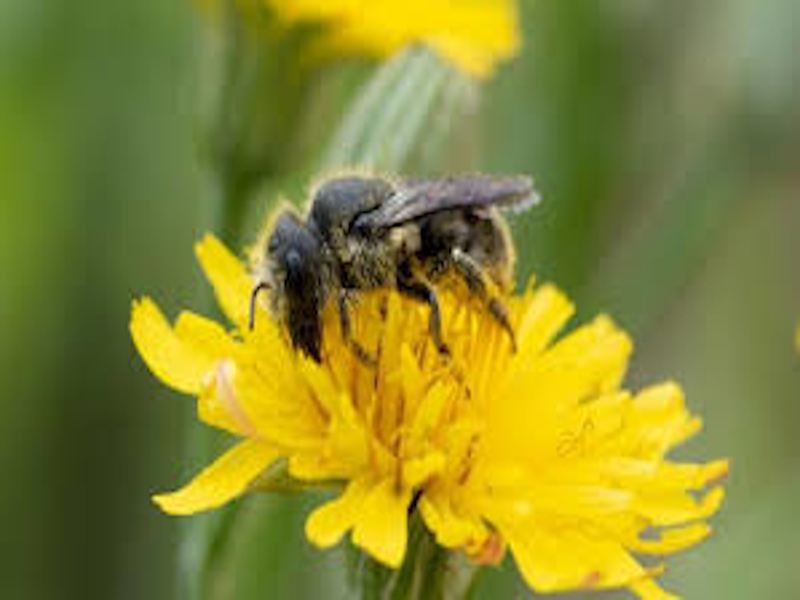abeja: (225, 148, 581, 386)
